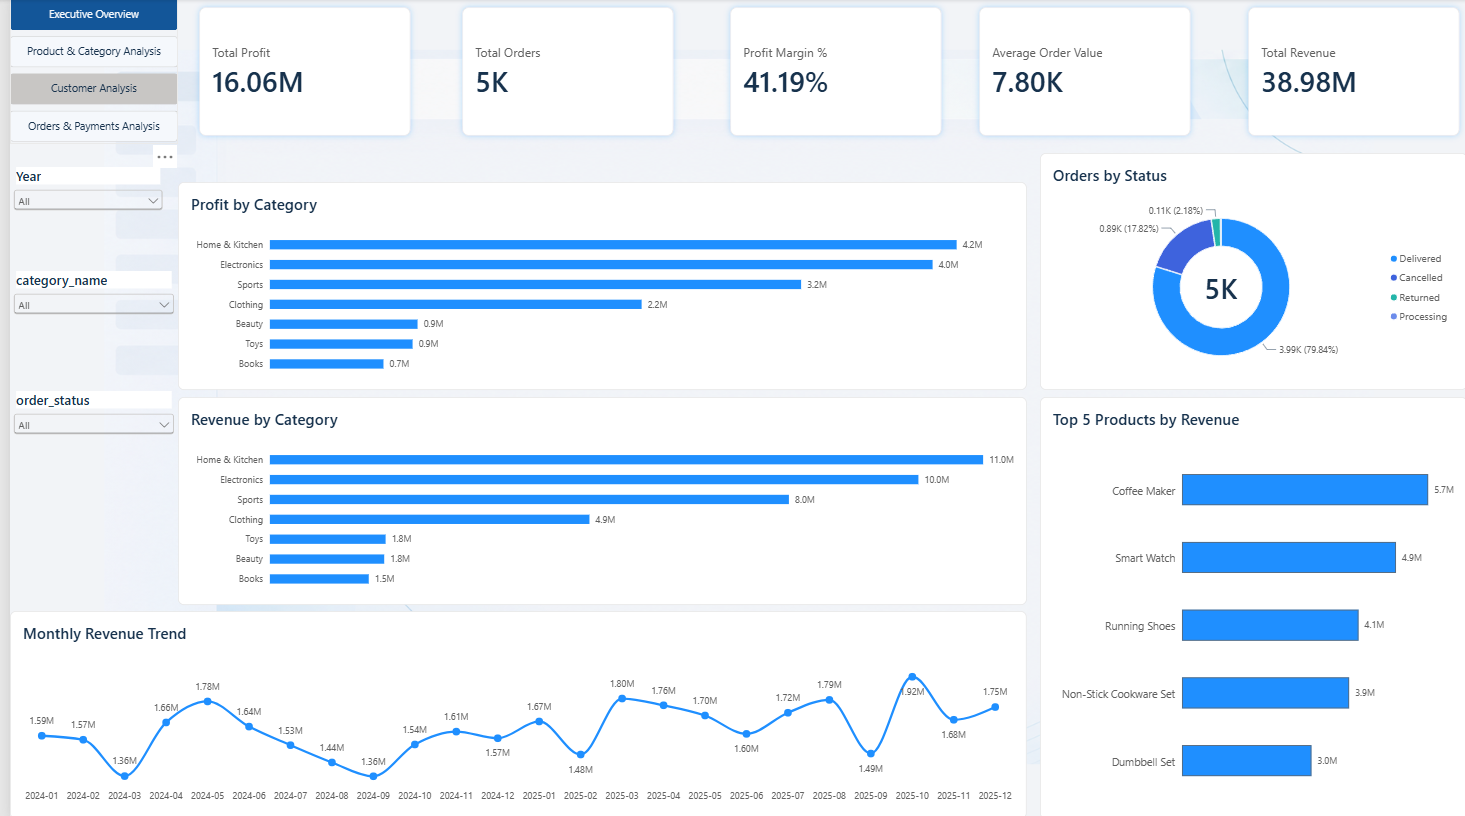

This screenshot's page, from the dashboard's own definition file:
{"tool":"powerbi","page":{"name":"Executive Overview","canvas":[1920,1080],"ordinal":0},"visuals":[{"type":"cardVisual","fields":{"Data":["Measures (2).Average Order Value"]},"box":[1265.8,0,300.6,191.6],"z":1000},{"type":"cardVisual","fields":{"Data":["Measures (2).Profit Margin %"]},"box":[938.1,0,300.5,191.1],"z":2000},{"type":"cardVisual","fields":{"Data":["Measures (2).Total Orders"]},"box":[585,0,300.5,191.1],"z":3000},{"type":"cardVisual","fields":{"Data":["Measures (2).Total Profit"]},"box":[237.8,0,300.5,191.1],"z":4000},{"type":"cardVisual","fields":{"Data":["Measures (2).Total Revenue"]},"box":[1619.4,0,300.6,191.6],"z":5000},{"type":"lineChart","title":"Monthly Revenue Trend","fields":{"Category":["DateTable.Year-Month"],"Y":["Measures (2).Total Revenue"]},"box":[0,806,1339.4,274.1],"z":6000},{"type":"clusteredBarChart","title":"Revenue by Category","fields":{"Category":["categories.category_name"],"Y":["Measures (2).Total Revenue"]},"box":[221.3,524.2,1118.4,274.1],"z":7000},{"type":"clusteredBarChart","title":"Profit by Category","fields":{"Category":["categories.category_name"],"Y":["Measures (2).Total Profit"]},"box":[221.3,241,1118.4,274.1],"z":8000},{"type":"donutChart","title":"Orders by Status","fields":{"Category":["orders.order_status"],"Y":["CountNonNull(orders.order_id)"]},"box":[1356.8,202.8,563.2,312],"z":9000},{"type":"clusteredBarChart","title":"Top 5 Products by Revenue","fields":{"Category":["products.product_name"],"Y":["Measures (2).Total Revenue"]},"box":[1356.8,523.8,563.2,555.9],"z":10000},{"type":"slicer","fields":{"Values":["DateTable.Year"]},"box":[0,221,206.3,85.5],"z":12000},{"type":"slicer","fields":{"Values":["categories.category_name"]},"box":[0,358.1,221,92.8],"z":15000},{"type":"pageNavigator","box":[0,0,221,191.6],"z":16000},{"type":"slicer","fields":{"Values":["orders.order_status"]},"box":[0,515.7,221,92.8],"z":17000}]}

Visuals, with their boxes on the page's 1920x1080 design canvas (x1, y1, x2, y2). These are canvas units, not pixel positions in the 1465x816 screenshot, which may show the page scaled, cropped or inside an application window:
cardVisual - Measures (2).Average Order Value: 1266,0,1566,192
cardVisual - Measures (2).Profit Margin %: 938,0,1239,191
cardVisual - Measures (2).Total Orders: 585,0,886,191
cardVisual - Measures (2).Total Profit: 238,0,538,191
cardVisual - Measures (2).Total Revenue: 1619,0,1920,192
"Monthly Revenue Trend" lineChart: 0,806,1339,1080
"Revenue by Category" clusteredBarChart: 221,524,1340,798
"Profit by Category" clusteredBarChart: 221,241,1340,515
"Orders by Status" donutChart: 1357,203,1920,515
"Top 5 Products by Revenue" clusteredBarChart: 1357,524,1920,1080
slicer - DateTable.Year: 0,221,206,306
slicer - categories.category_name: 0,358,221,451
pageNavigator: 0,0,221,192
slicer - orders.order_status: 0,516,221,608
